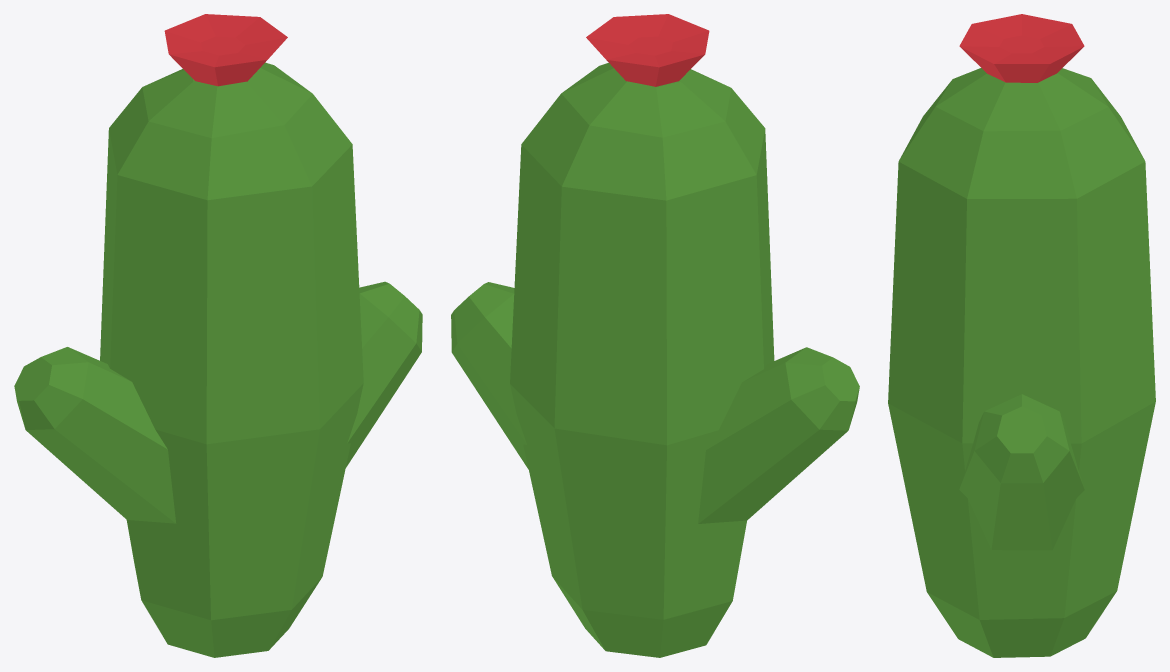
The model's file is cactus-medium.glb.
3 views of the same model, side by side, from view 1: azimuth 30°, elevation 25°; view 2: azimuth 150°, elevation 25°; view 3: azimuth 270°, elevation 25° (orthographic).
Parts seen in each view (by area): view 1: cactus-medium; view 2: cactus-medium; view 3: cactus-medium.
Boxes of the visible parts, x1,y1,x2,y2 form: cactus-medium: (14, 14, 422, 657); cactus-medium: (451, 14, 859, 657); cactus-medium: (888, 14, 1155, 657).
Bounding box in the file's own units: 1.2 × 1.71 × 0.699.
1 material, 1 textured.
